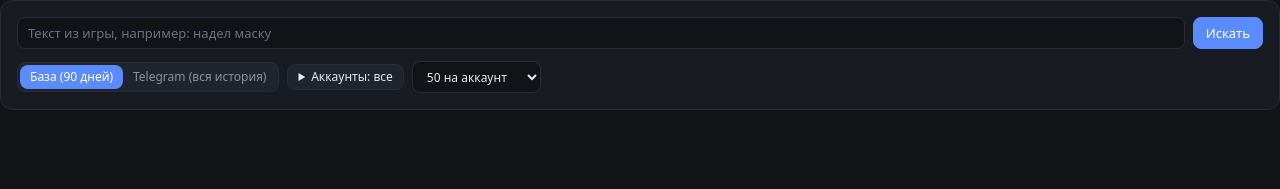
Scenario: экран «Поиск» › при ошибке API показывает сообщение об ошибке
Type "маска" into the search field with placeholder "Текст из игры, например: надел маску" at (601, 33), box x1=17 y1=17 x2=1185 y2=49
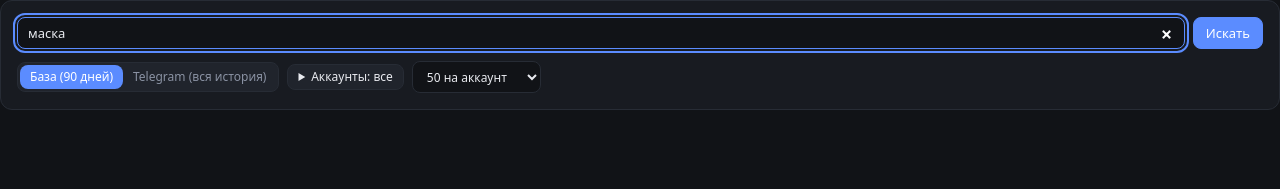
Click the button "Искать" at (1228, 33), box x1=1193 y1=17 x2=1263 y2=49
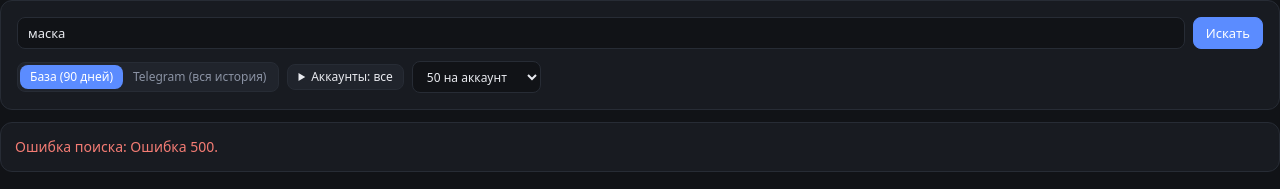
expect the message "Ошибка поиска: Ошибка 500." is shown: met, box x1=0 y1=122 x2=1279 y2=172
